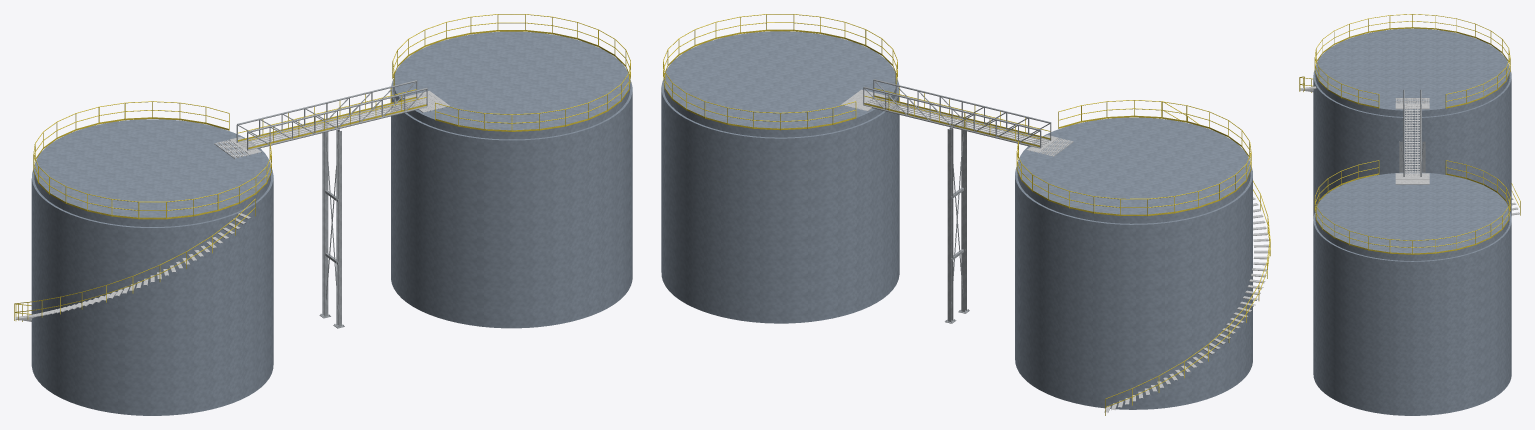
The model's file is catwalks-and-tank-farm-walkways.glb.
3 renders of one model, left to right at view 1: azimuth 30°, elevation 25°; view 2: azimuth 150°, elevation 25°; view 3: azimuth 270°, elevation 25°, orthographic. The views are drawn at different scales.
Parts seen in each view (by area): view 1: Tanks(context), Handrails&ToeBoards, SupportTrestle, CatwalkTruss, Grip-StrutDeck, SpiralStairTreads, RoofPlatforms; view 2: Tanks(context), Handrails&ToeBoards, SupportTrestle, CatwalkTruss, SpiralStairTreads, Grip-StrutDeck, RoofPlatforms; view 3: Tanks(context), Handrails&ToeBoards, Grip-StrutDeck, RoofPlatforms, CatwalkTruss, SupportTrestle.
Boxes of the visible parts, x1=… form: Tanks(context): x1=31, y1=31, x2=632, y2=415; Handrails&ToeBoards: x1=14, y1=14, x2=630, y2=321; SupportTrestle: x1=319, y1=121, x2=344, y2=328; CatwalkTruss: x1=236, y1=80, x2=427, y2=150; Grip-StrutDeck: x1=238, y1=98, x2=424, y2=148; SpiralStairTreads: x1=15, y1=213, x2=251, y2=321; RoofPlatforms: x1=214, y1=91, x2=450, y2=158; Tanks(context): x1=661, y1=31, x2=1252, y2=409; Handrails&ToeBoards: x1=663, y1=14, x2=1270, y2=415; SupportTrestle: x1=945, y1=122, x2=969, y2=323; CatwalkTruss: x1=863, y1=79, x2=1051, y2=148; SpiralStairTreads: x1=1104, y1=197, x2=1269, y2=412; Grip-StrutDeck: x1=866, y1=97, x2=1049, y2=146; RoofPlatforms: x1=841, y1=89, x2=1073, y2=156; Tanks(context): x1=1313, y1=28, x2=1511, y2=415; Handrails&ToeBoards: x1=1299, y1=14, x2=1520, y2=254; Grip-StrutDeck: x1=1405, y1=104, x2=1420, y2=176; RoofPlatforms: x1=1395, y1=98, x2=1429, y2=184; CatwalkTruss: x1=1403, y1=89, x2=1421, y2=176; SupportTrestle: x1=1399, y1=141, x2=1425, y2=172.
Bounding box in the file's own units: 39 × 13.76 × 15.63.
4 materials, 4 textured.
